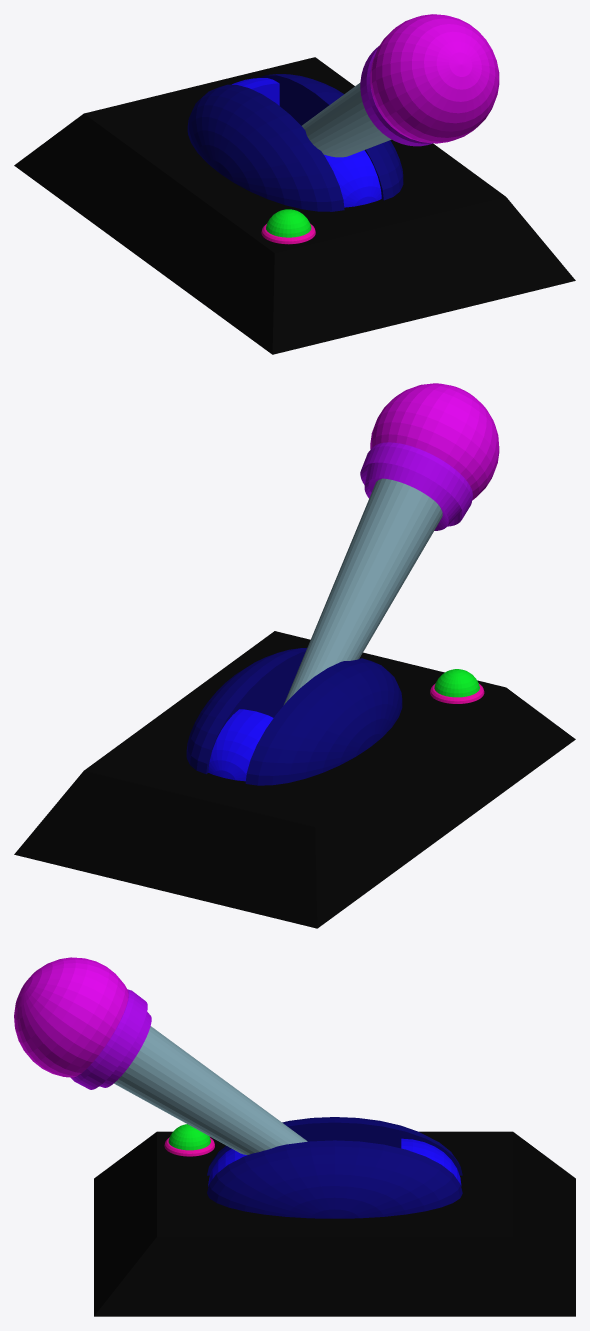
The model's file is Lever.glb.
3 renders of one model, top to bottom at view 1: azimuth 30°, elevation 25°; view 2: azimuth 150°, elevation 25°; view 3: azimuth 270°, elevation 25°, orthographic. The views are drawn at different scales.
Parts seen in each view (by area): view 1: Sphere.001, Cylinder.001, Sphere.003; view 2: Sphere.001, Cylinder.001, Sphere.003; view 3: Sphere.001, Cylinder.001, Sphere.003.
Part boxes in pixels (<box>): Sphere.001: <box>14,57,575,354</box>; Cylinder.001: <box>302,14,499,157</box>; Sphere.003: <box>261,209,315,244</box>; Sphere.001: <box>14,631,575,928</box>; Cylinder.001: <box>283,383,499,705</box>; Sphere.003: <box>430,669,484,703</box>; Sphere.001: <box>94,1117,575,1316</box>; Cylinder.001: <box>14,957,307,1154</box>; Sphere.003: <box>164,1124,214,1156</box>.
Bounding box in the file's own units: 5.41 × 5.2 × 9.31.
